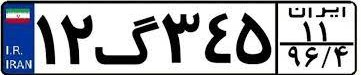character: (94, 12, 160, 70), (160, 5, 202, 67), (235, 8, 273, 70), (59, 6, 95, 70), (202, 4, 234, 69), (35, 9, 58, 70), (332, 46, 353, 72), (316, 19, 336, 42), (285, 45, 303, 69), (302, 47, 320, 70), (300, 19, 316, 42), (322, 45, 332, 71)
